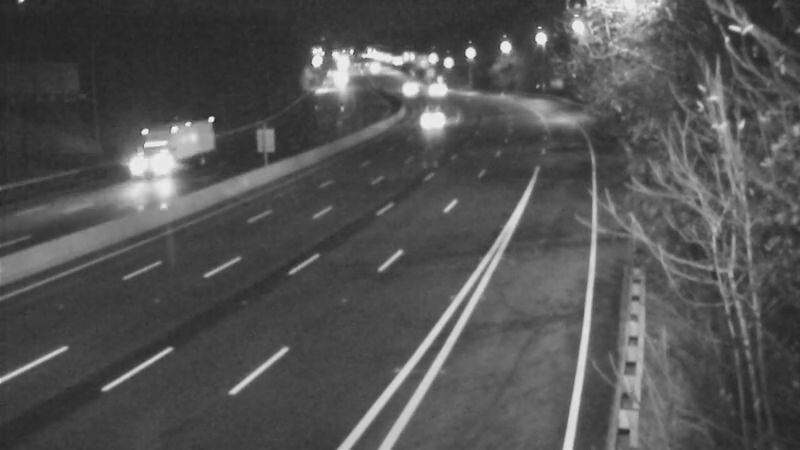vehicle: (122, 111, 202, 191), (384, 64, 434, 114), (410, 65, 460, 115), (406, 97, 456, 147)
